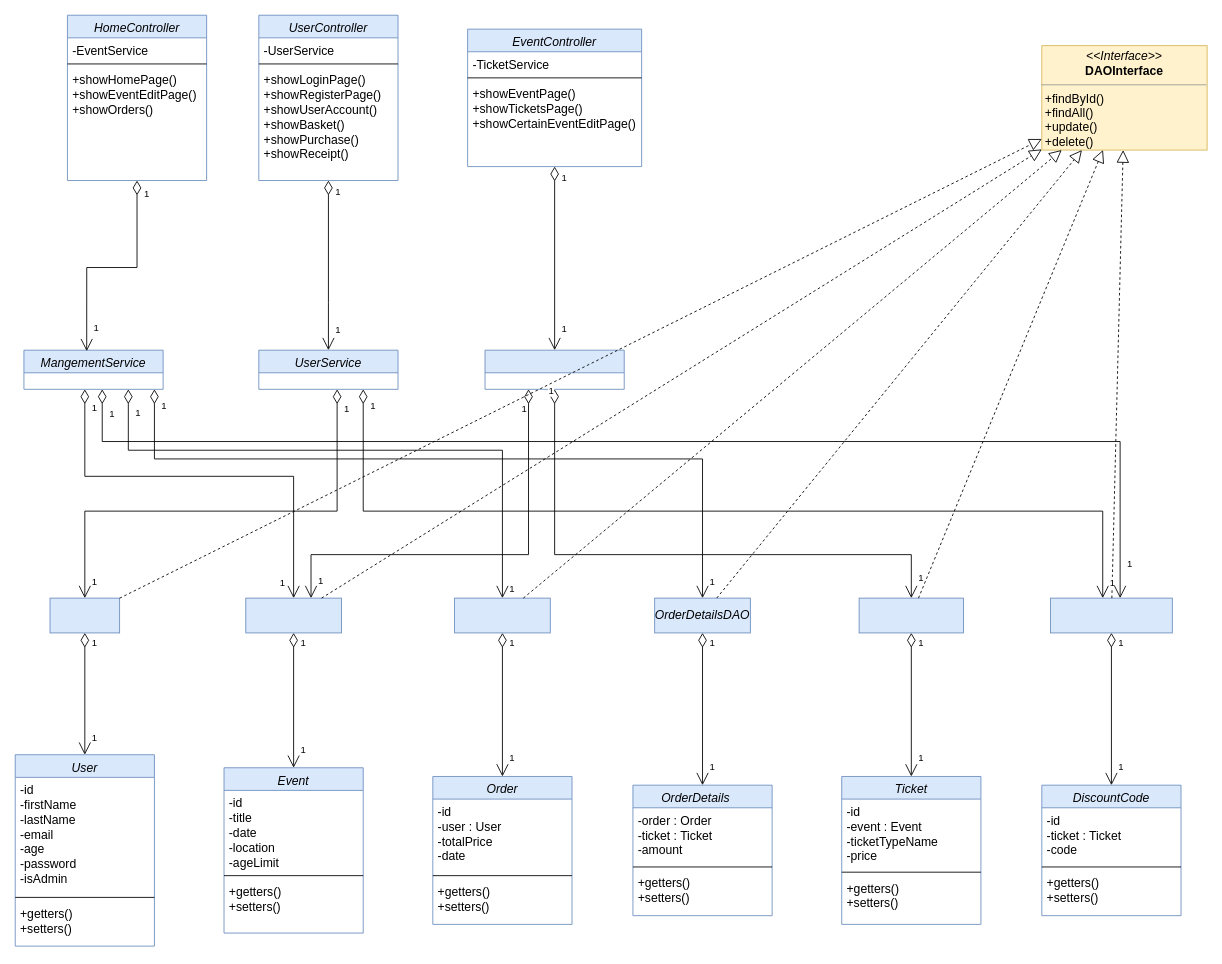
The diagram is 1222 pixels wide and 964 high, and some of its shapes have lost their labels. Here are the shapes that lost their labels. From the top down, the centre of each, then its label:
At pixel 554 369: "TicketService".
At pixel 84 615: "UserDAO".
At pixel 293 615: "EventDAO".
At pixel 502 615: "OrderDAO".
At pixel 911 615: "TicketDAO".
At pixel 1111 615: "DiscountCodeDAO".
